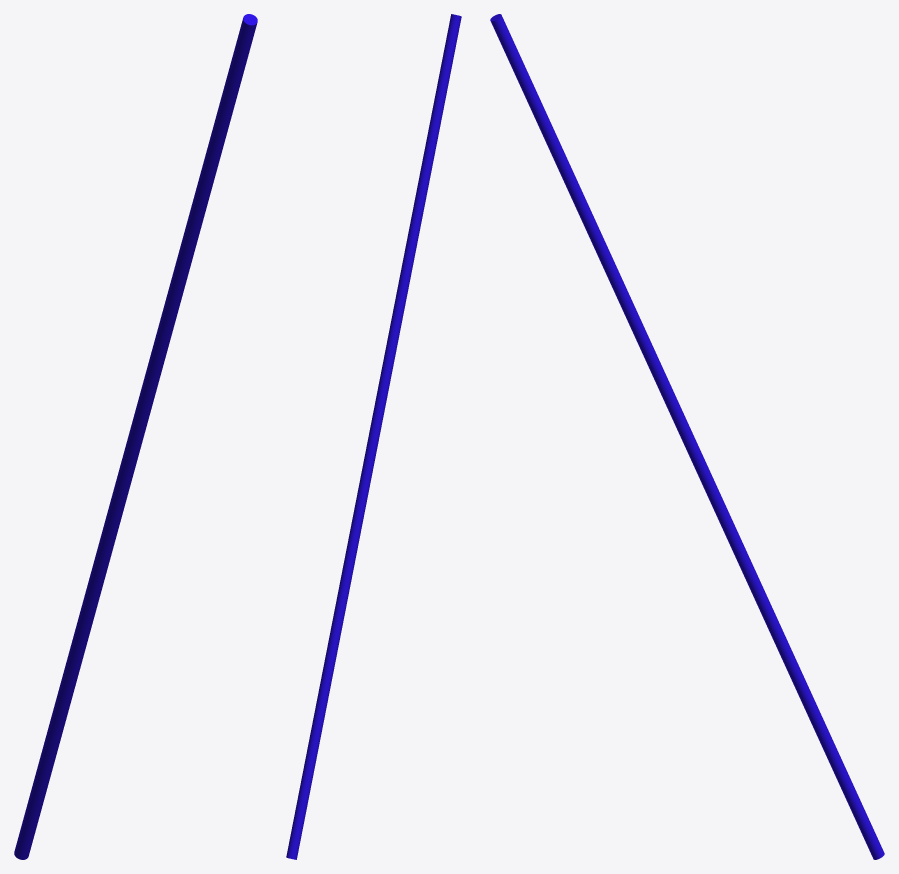
The picture shows the model from 3 angles, left to right: view 1: azimuth 30°, elevation 25°; view 2: azimuth 150°, elevation 25°; view 3: azimuth 270°, elevation 25°; orthographic projection. The views are drawn at different scales.
Parts seen in each view (by area): view 1: Циліндр.008; view 2: Циліндр.008; view 3: Циліндр.008.
Boxes of the visible parts, bbox=[...] form: Циліндр.008: bbox=[14, 14, 257, 859]; Циліндр.008: bbox=[286, 14, 461, 859]; Циліндр.008: bbox=[490, 14, 884, 859].
Bounding box in the file's own units: 0.0971 × 7.12 × 3.01.
